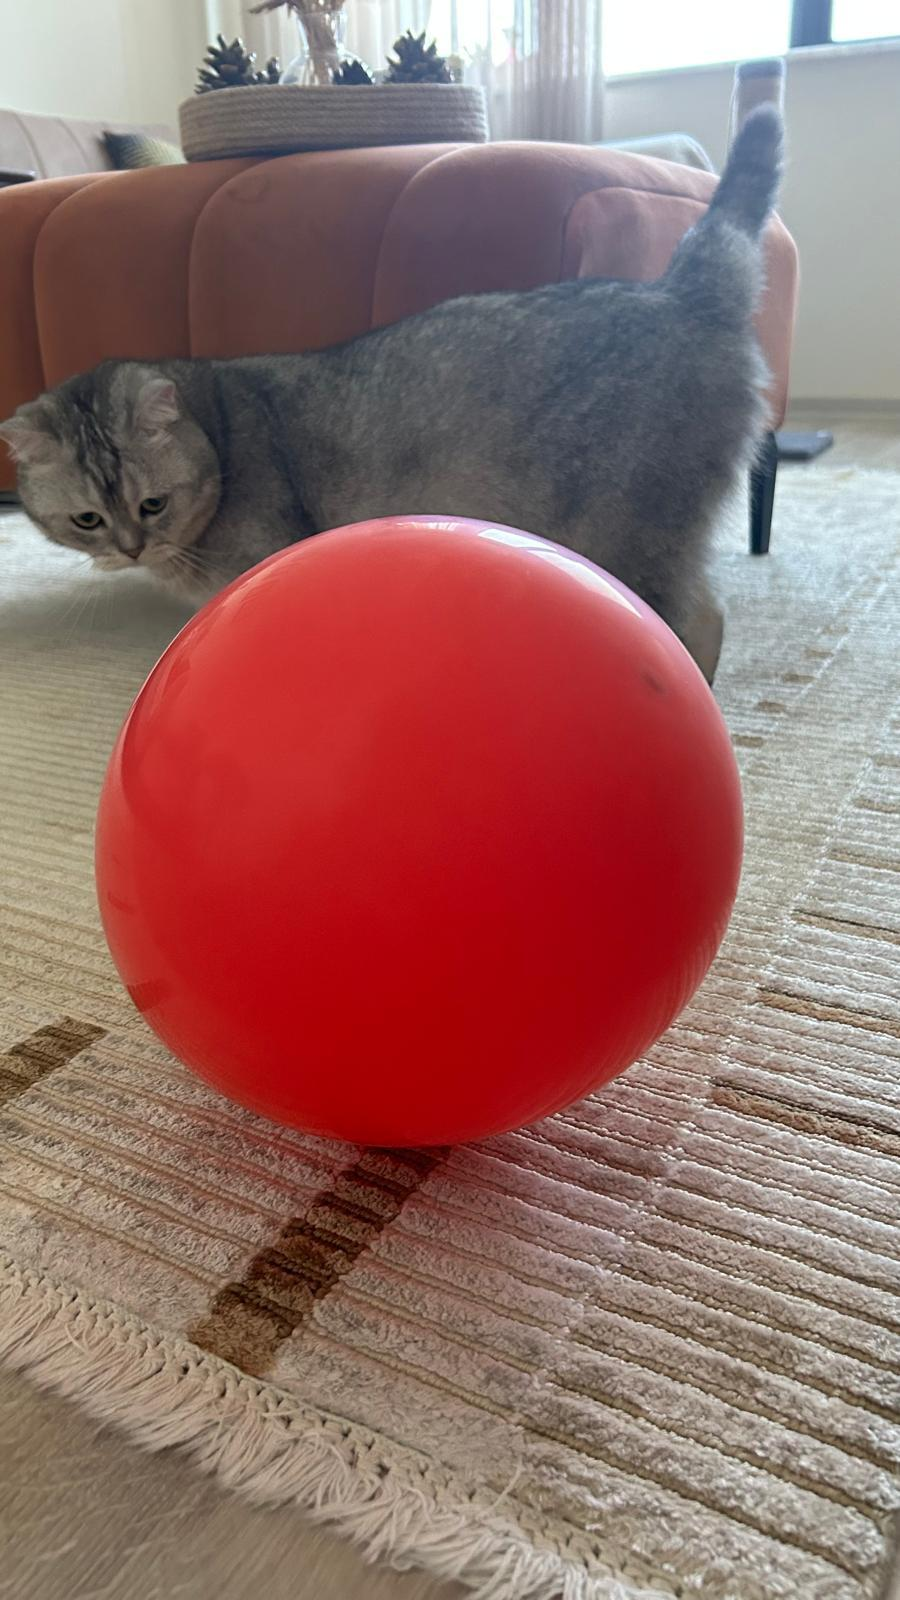red: (98, 518, 741, 1153)
